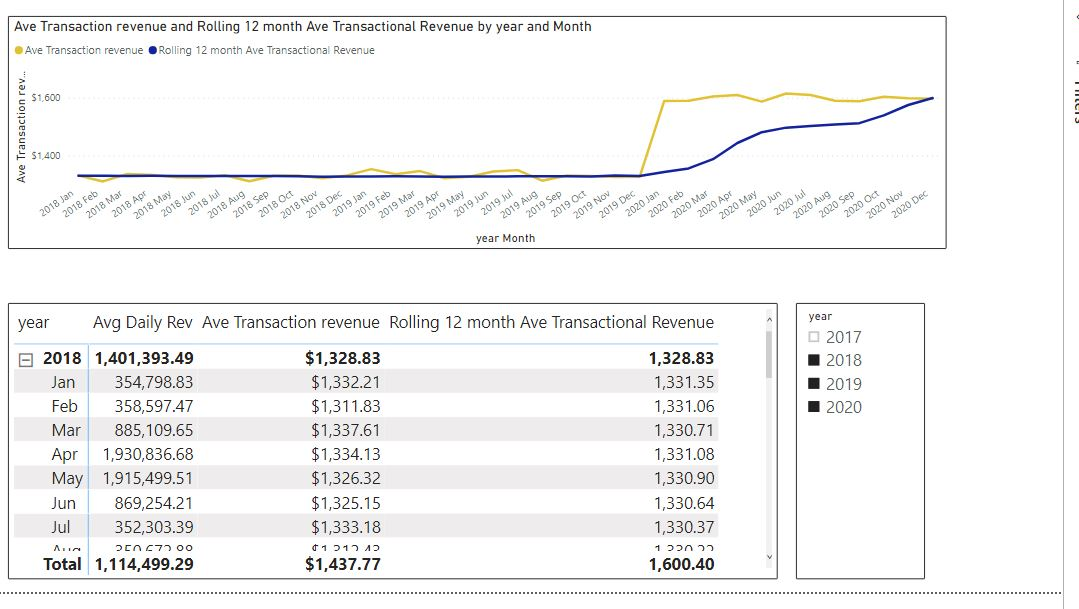

Layout of this report page (visuals, bound fields, positions):
{"tool":"powerbi","page":{"name":"Average trans revenue last 12 month","canvas":[1280,720],"ordinal":2},"visuals":[{"type":"lineChart","fields":{"Category":["dtDate.year","dtDate.Month"],"Y":["dtDate.Ave Transaction revenue","dProduct.Rolling 12 month Ave Transactional Revenue"]},"box":[12.2,27.1,1128.5,280.1],"z":0},{"type":"slicer","fields":{"Values":["dtDate.year"]},"box":[959,372.7,154.9,332.2],"z":1},{"type":"pivotTable","fields":{"Rows":["dtDate.year","dtDate.Month"],"Values":["dtDate.Avg Daily Rev","dtDate.Ave Transaction revenue","dProduct.Rolling 12 month Ave Transactional Revenue"]},"box":[12.6,372.7,925.5,332.2],"z":2}]}

Visuals, with their boxes on the page's 1280x720 design canvas (x1, y1, x2, y2). These are canvas units, not pixel positions in the 1079x609 screenshot, which may show the page scaled, cropped or inside an application window:
lineChart - dtDate.year x dtDate.Month: select_region(12, 27, 1141, 307)
slicer - dtDate.year: select_region(959, 373, 1114, 705)
pivotTable - dtDate.year x dtDate.Month: select_region(13, 373, 938, 705)
